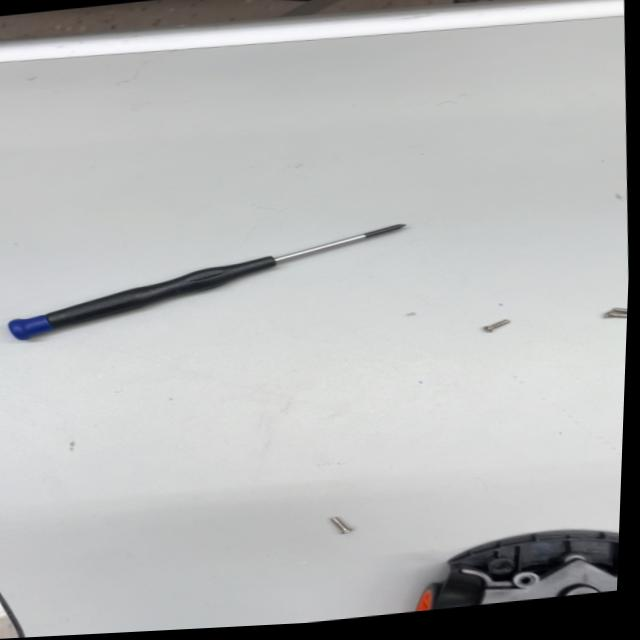screw: (320, 508, 364, 542), (468, 315, 521, 340)
screw_driver: (0, 216, 418, 345)
